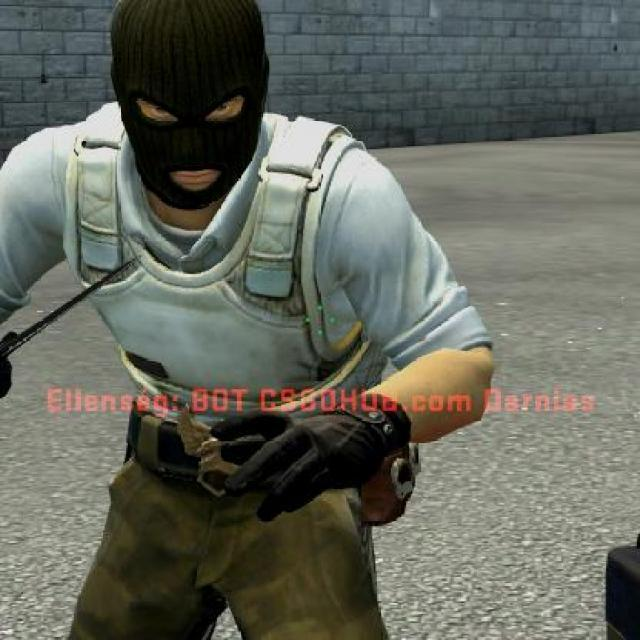Dead: (84, 0, 290, 223)
T-Body: (0, 0, 503, 638)
